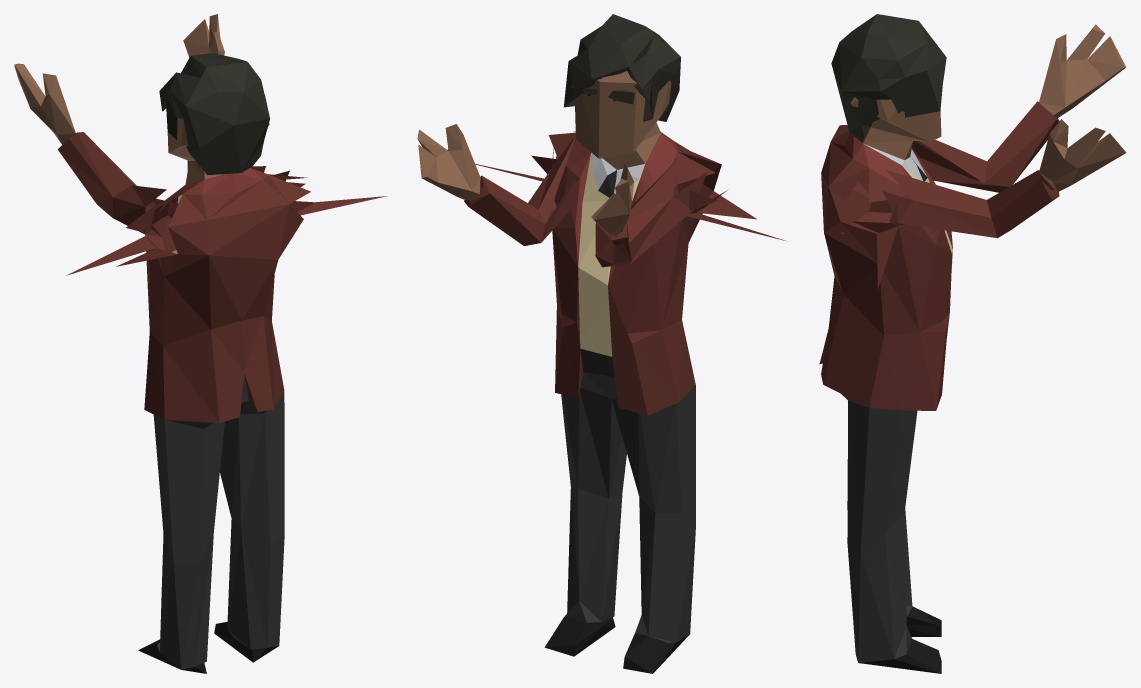
Rendered from Cousin_Clap.obj.
3 renders of one model, left to right at view 1: azimuth 30°, elevation 25°; view 2: azimuth 150°, elevation 25°; view 3: azimuth 270°, elevation 25°, orthographic. The views are drawn at different scales.
Parts seen in each view (by area): view 1: Cousin_Clap; view 2: Cousin_Clap; view 3: Cousin_Clap.
Boxes of the visible parts, x1,y1,x2,y2 form: Cousin_Clap: [14, 14, 387, 673]; Cousin_Clap: [417, 14, 786, 673]; Cousin_Clap: [819, 14, 1126, 673].
Bounding box in the file's own units: 1.04 × 1.83 × 0.8142.
1 material, 1 textured.
